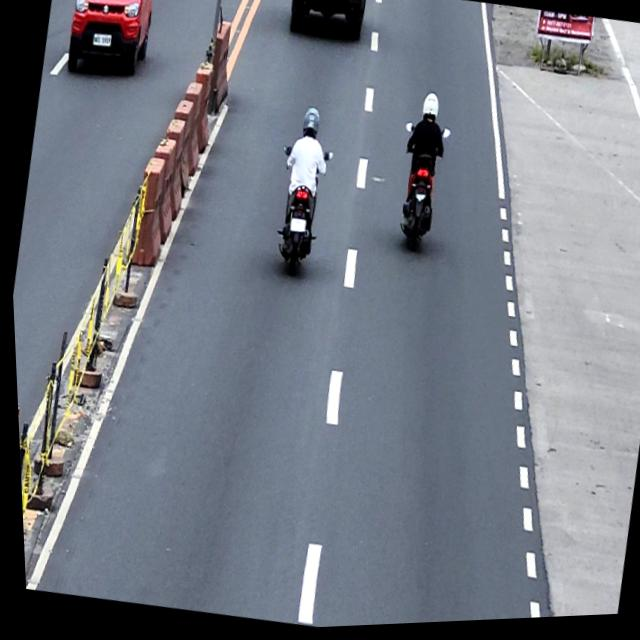Car: (59, 0, 163, 84), (284, 0, 369, 46)
License-Plate: (90, 30, 112, 49), (286, 219, 305, 236)
Motorcycle: (258, 143, 336, 283), (382, 122, 454, 259)
